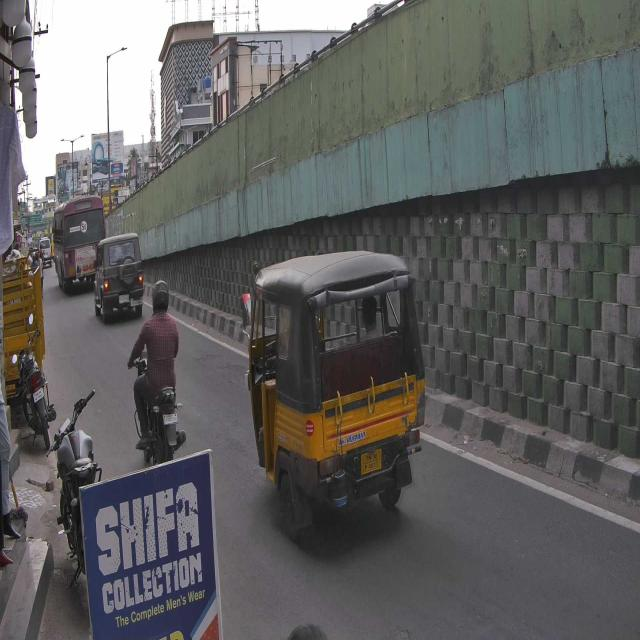single_rider: (126, 277, 190, 483)
